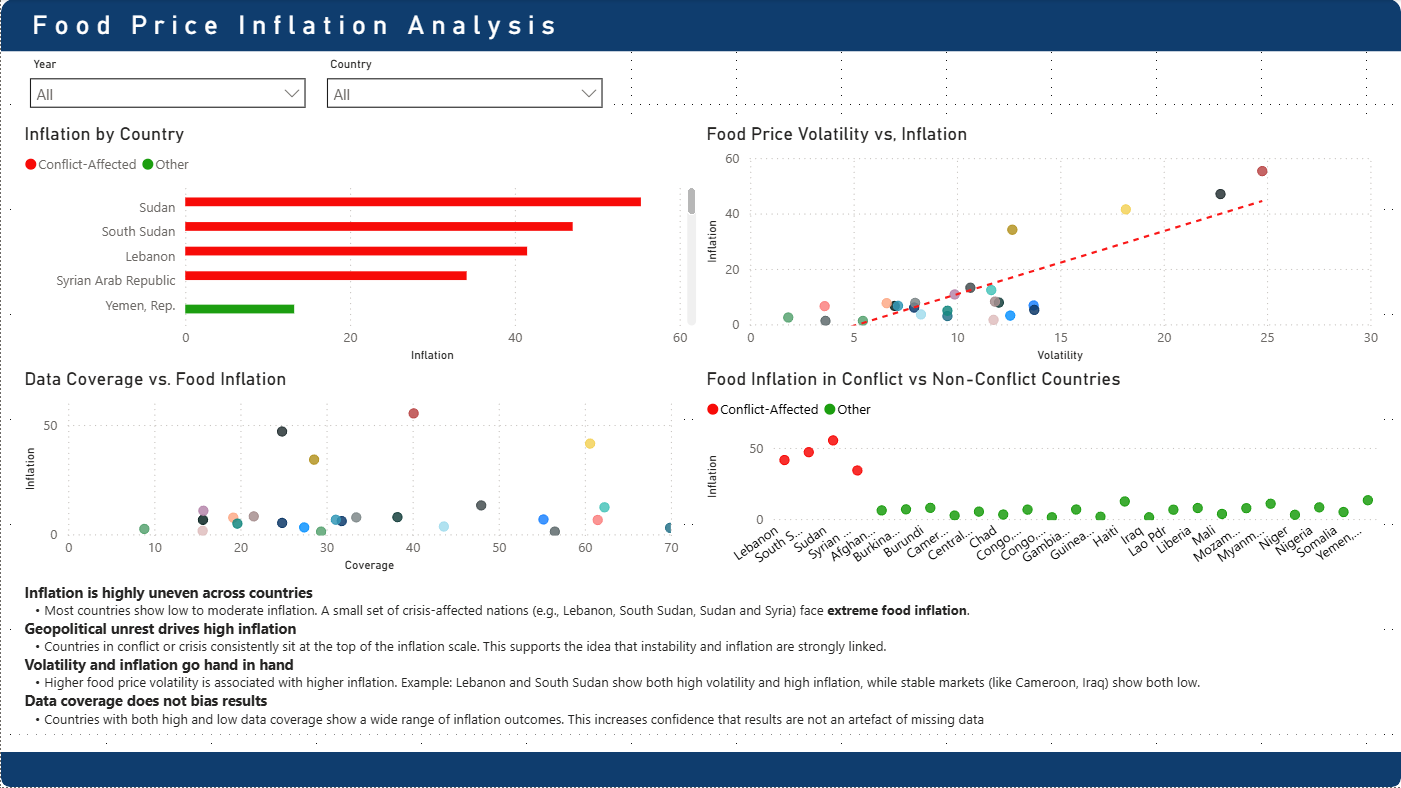

Layout of this report page (visuals, bound fields, positions):
{"tool":"powerbi","page":{"name":"Page 1","canvas":[1280,720],"ordinal":0},"visuals":[{"type":"slicer","fields":{"Values":["FactFoodPrices.year"]},"box":[16,48,272,64],"z":0},{"type":"slicer","fields":{"Values":["FactFoodPrices.country"]},"box":[288,48,272,64],"z":1000},{"type":"scatterChart","title":"Food Price Volatility vs, Inflation","fields":{"Series":["FactFoodPrices.country"],"X":["FactFoodPrices.Avg Volatility"],"Y":["FactFoodPrices.Avg Inflation"]},"box":[640,112,624,224],"z":3000},{"type":"scatterChart","title":"Data Coverage vs. Food Inflation","fields":{"X":["FactFoodPrices.Avg Coverage"],"Y":["FactFoodPrices.Avg Inflation"],"Series":["FactFoodPrices.country"]},"box":[16,336,608,192],"z":4000},{"type":"scatterChart","title":"Food Inflation in Conflict vs Non-Conflict Countries","fields":{"X":["FactFoodPrices.country"],"Y":["FactFoodPrices.Avg Inflation"],"Series":["FactFoodPrices.Conflict_Affected"]},"box":[640,336,624,192],"z":5000},{"type":"clusteredBarChart","title":"Inflation by Country","fields":{"Category":["FactFoodPrices.country"],"Y":["FactFoodPrices.Avg Inflation"],"Series":["FactFoodPrices.Conflict_Affected"]},"box":[16,112,624,224],"z":6000},{"type":"textbox","box":[16,528,1248,144],"z":7000},{"type":"shape","box":[0,0,1280,48],"z":7001},{"type":"textbox","box":[16,0,624,48],"z":7002},{"type":"shape","box":[0,688,1280,32],"z":7003}]}

Visuals, with their boxes in screenshot pixels (x1, y1, x2, y2), scaled from the page's 1280x720 canvas onto the 1401x788 screenshot:
slicer - FactFoodPrices.year: 18 53 315 123
slicer - FactFoodPrices.country: 315 53 613 123
"Food Price Volatility vs, Inflation" scatterChart: 700 123 1383 368
"Data Coverage vs. Food Inflation" scatterChart: 18 368 683 578
"Food Inflation in Conflict vs Non-Conflict Countries" scatterChart: 700 368 1383 578
"Inflation by Country" clusteredBarChart: 18 123 700 368
textbox: 18 578 1383 735
shape: 0 0 1400 53
textbox: 18 0 700 53
shape: 0 753 1400 787
